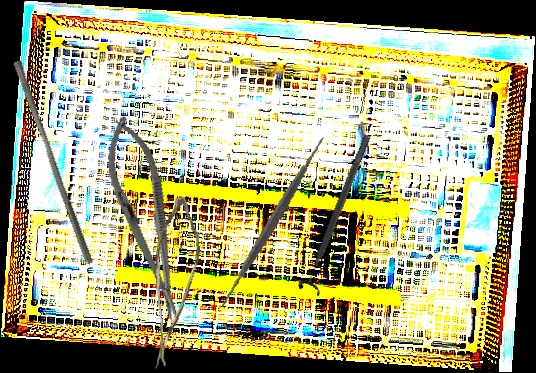Fixation Ring: (295, 131, 380, 297)
Micro Scissor: (143, 196, 208, 369)
Needle Holder: (94, 111, 198, 327)
Pusher: (5, 59, 102, 266)
Spatula Surgical: (184, 135, 361, 309)
